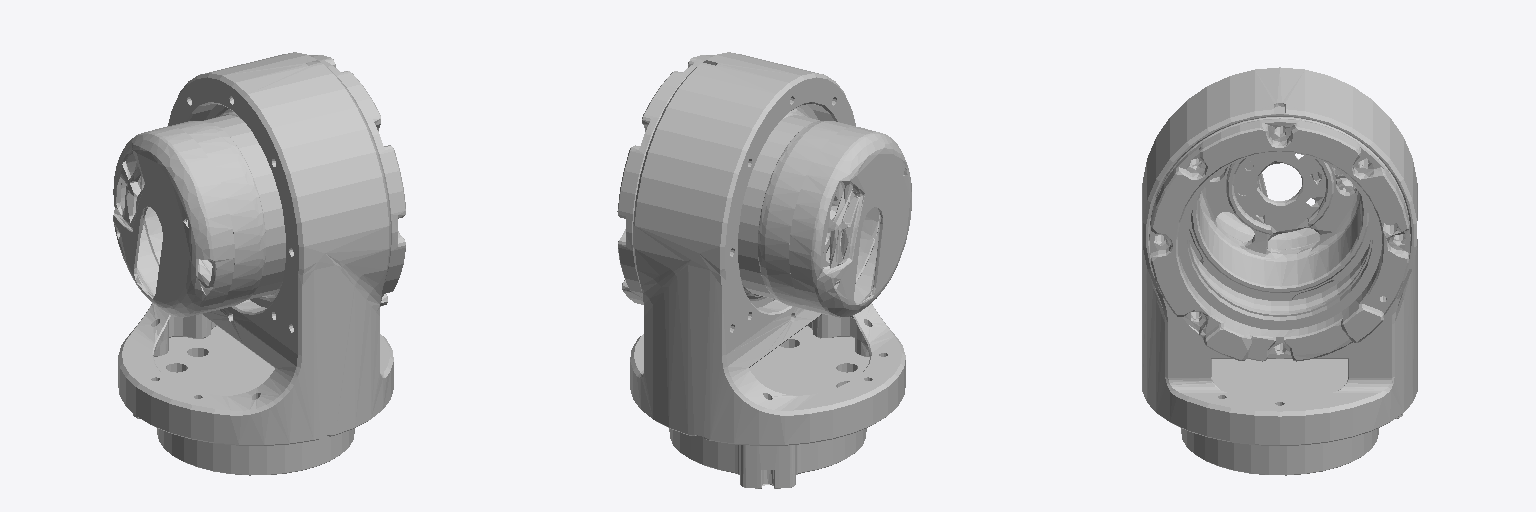
File: left_upper_arm_pitch_link.obj
3 renders of one model, left to right at view 1: azimuth 30°, elevation 25°; view 2: azimuth 150°, elevation 25°; view 3: azimuth 270°, elevation 25°, orthographic.
Visible parts, largest first — view 1: left_upper_arm_pitch_link; view 2: left_upper_arm_pitch_link; view 3: left_upper_arm_pitch_link.
Part boxes in pixels (x1,y1,x2,y2): left_upper_arm_pitch_link: (113, 52, 405, 475); left_upper_arm_pitch_link: (617, 52, 911, 488); left_upper_arm_pitch_link: (1142, 67, 1417, 475).
Size of the model in its own units: 0.074 by 0.1055 by 0.074.